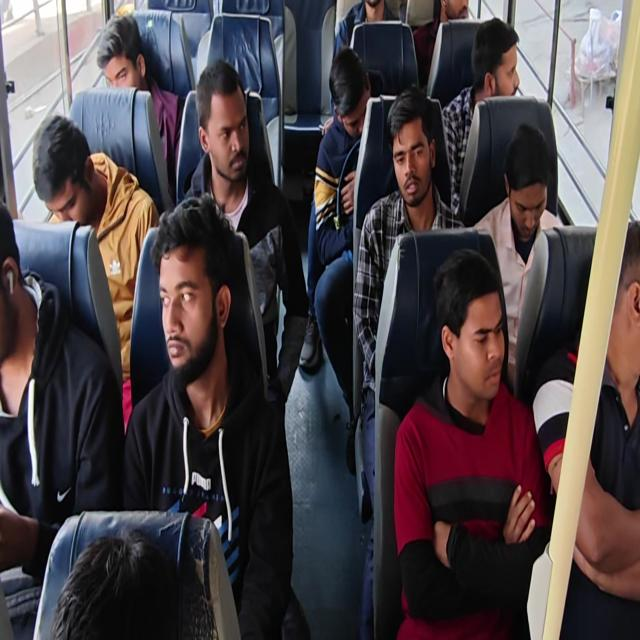person: (146, 185, 241, 388), (428, 248, 518, 442), (61, 519, 193, 640), (30, 111, 103, 247), (193, 48, 262, 185), (387, 83, 445, 222), (501, 120, 558, 241), (0, 190, 39, 361), (604, 214, 640, 387), (327, 42, 378, 150), (94, 14, 156, 97), (476, 20, 526, 115), (441, 0, 486, 23), (362, 0, 393, 21)
